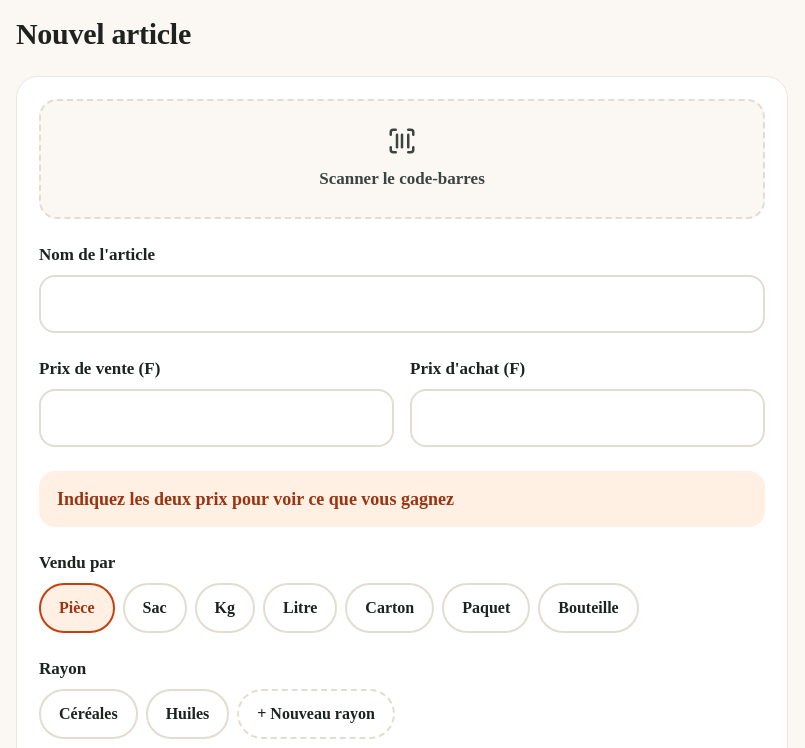
Test: Nouvel article › garde le bouton grisé tant qu'un stock n'a pas de prix d'achat
Type "Savon" into the field labelled "Nom de l'article" at (402, 304), box [39, 274, 765, 332]
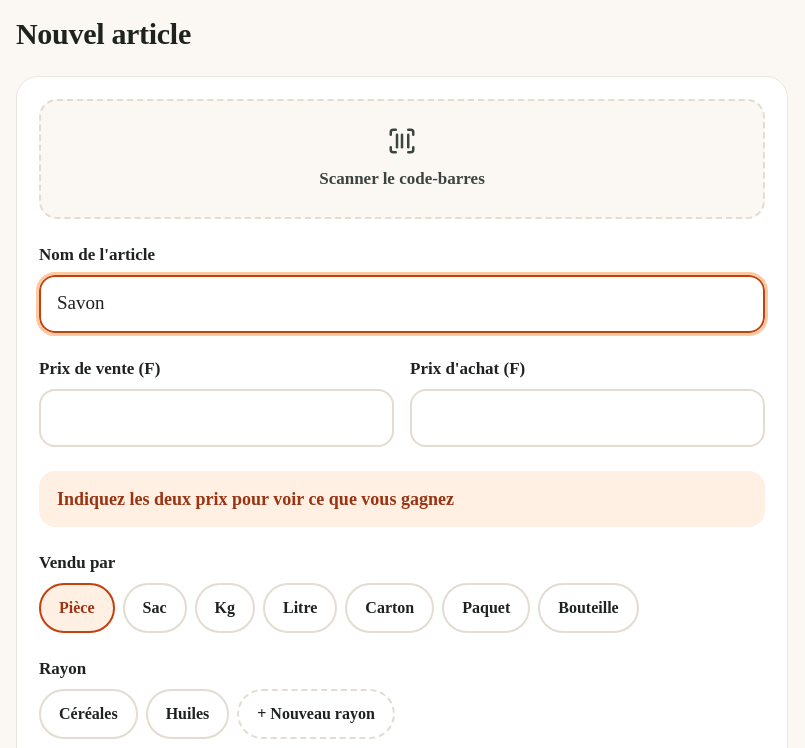
Type "300" into the field labelled "Prix de vente (F)" at (216, 418), box [39, 388, 394, 446]
(page scrolled)
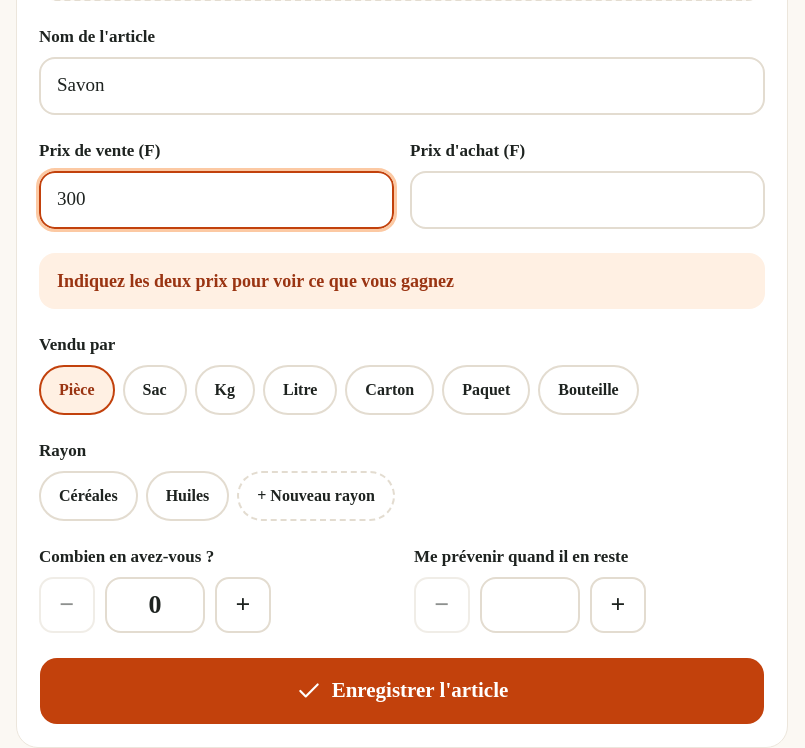
Replace the text in the field named "Quantité en stock" with "10" at (155, 604), box [105, 576, 205, 632]
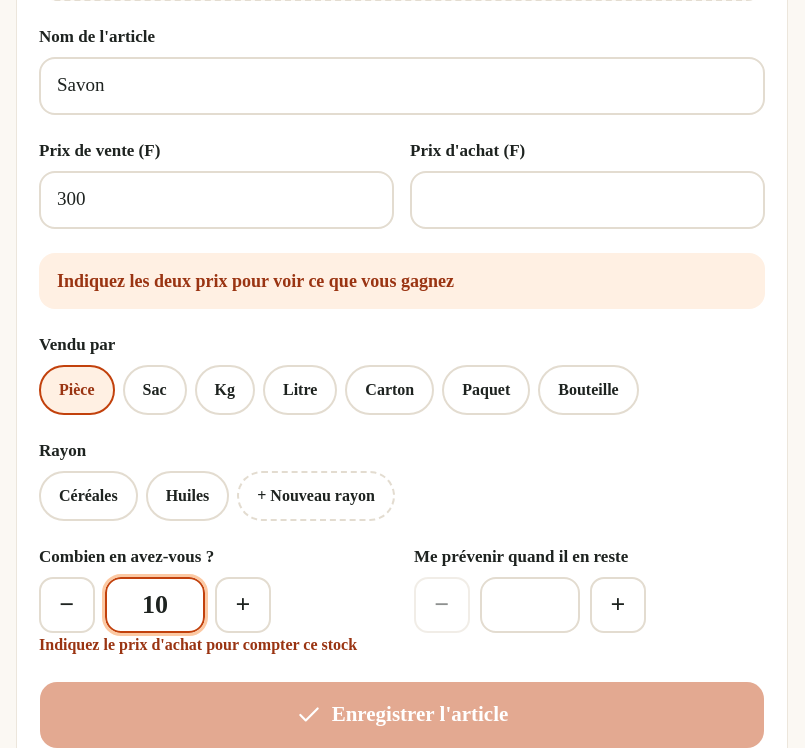
Now the button "Enregistrer l'article" is disabled, box [39, 680, 765, 747]
Now the text "Indiquez le prix d'achat pour compter ce stock" is shown, box [39, 632, 390, 656]
